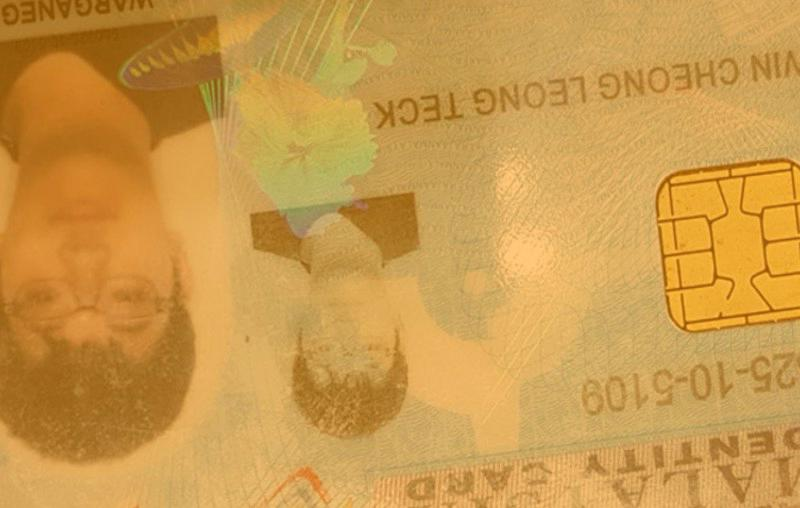hologramB: (229, 53, 371, 195)
